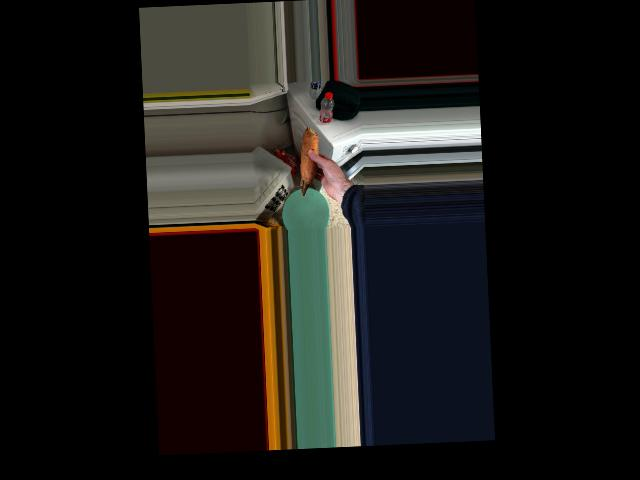sweet_potato: (298, 131, 320, 198)
